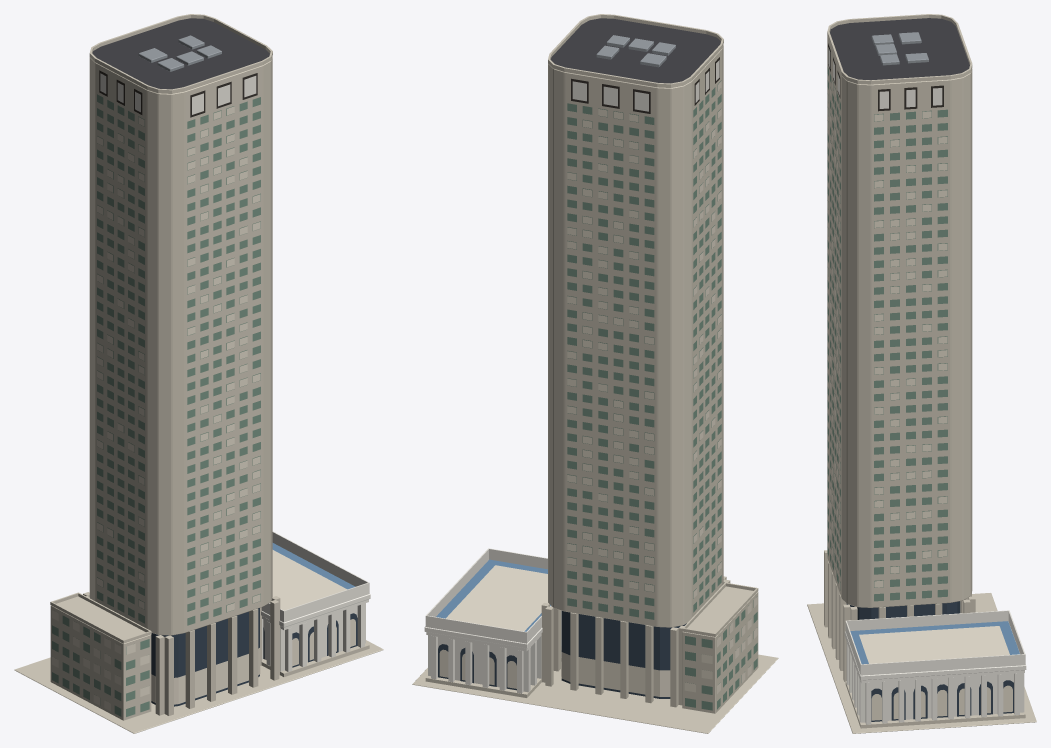
The model's file is 1-sansome-street.glb.
3 views of the same model, side by side, from view 1: azimuth 30°, elevation 25°; view 2: azimuth 150°, elevation 25°; view 3: azimuth 270°, elevation 25° (orthographic). The views are drawn at different scales.
Parts seen in each view (by area): view 1: 1-sansome-street_body, 1-sansome-street_night_glow; view 2: 1-sansome-street_body, 1-sansome-street_night_glow; view 3: 1-sansome-street_body, 1-sansome-street_night_glow.
Part boxes in pixels (<box>): 1-sansome-street_body: <box>14,14,383,733</box>; 1-sansome-street_night_glow: <box>52,73,355,711</box>; 1-sansome-street_body: <box>412,14,778,733</box>; 1-sansome-street_night_glow: <box>439,60,757,696</box>; 1-sansome-street_body: <box>807,14,1036,733</box>; 1-sansome-street_night_glow: <box>827,47,1012,720</box>.
Bounding box in the file's own units: 84.08 × 168 × 58.08.
